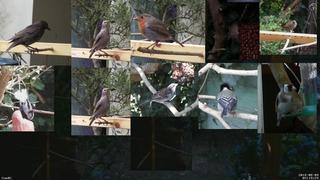dunnock: (279, 20, 297, 33)
goldfinch: (275, 83, 297, 127)
great tit: (216, 83, 238, 118)
long tailed tit: (23, 86, 34, 120)
mouse: (228, 20, 240, 43)
robin: (133, 13, 185, 56)
sparrow: (139, 83, 178, 106)
starling: (6, 20, 51, 54), (89, 20, 110, 59), (89, 88, 110, 126)
